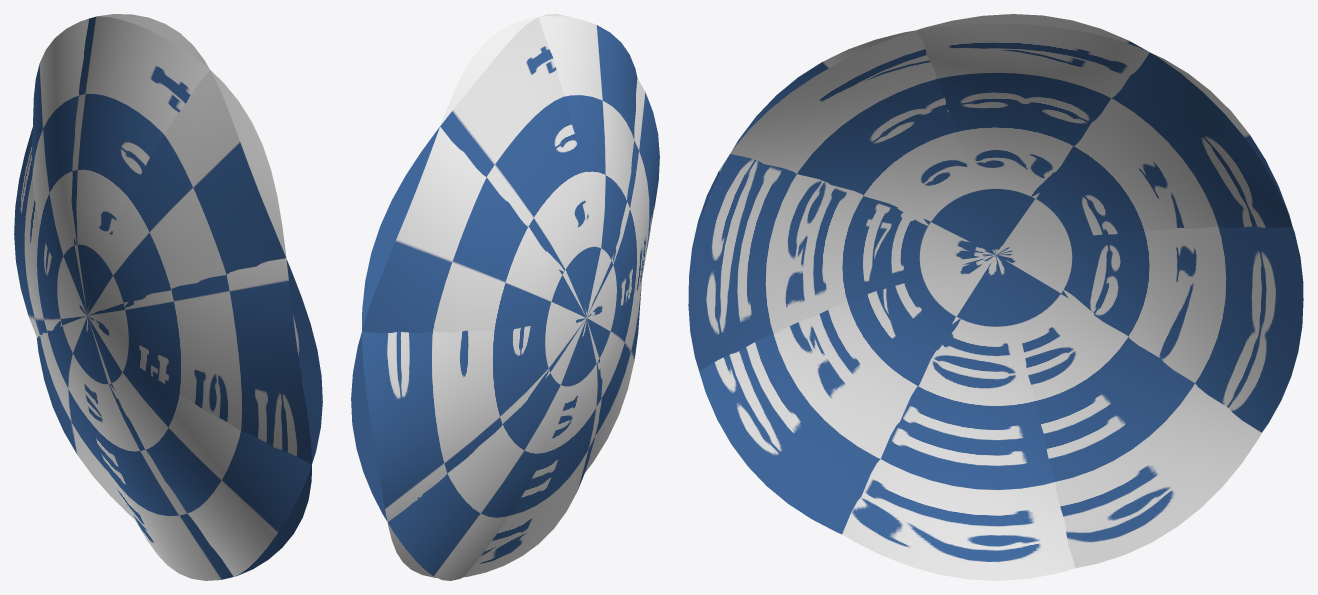
The model's file is Enmu_Ring2.fbx.
3 views of the same model, side by side, from view 1: azimuth 30°, elevation 25°; view 2: azimuth 150°, elevation 25°; view 3: azimuth 270°, elevation 25° (orthographic). The views are drawn at different scales.
Parts seen in each view (by area): view 1: SM_e_Plc_P1011_Ring002; view 2: SM_e_Plc_P1011_Ring002; view 3: SM_e_Plc_P1011_Ring002.
Boxes of the visible parts, <box> form: SM_e_Plc_P1011_Ring002: <box>14,14,322,580</box>; SM_e_Plc_P1011_Ring002: <box>351,14,659,580</box>; SM_e_Plc_P1011_Ring002: <box>688,14,1303,580</box>.
Bounding box in the file's own units: 17.74 × 97.45 × 97.45.
